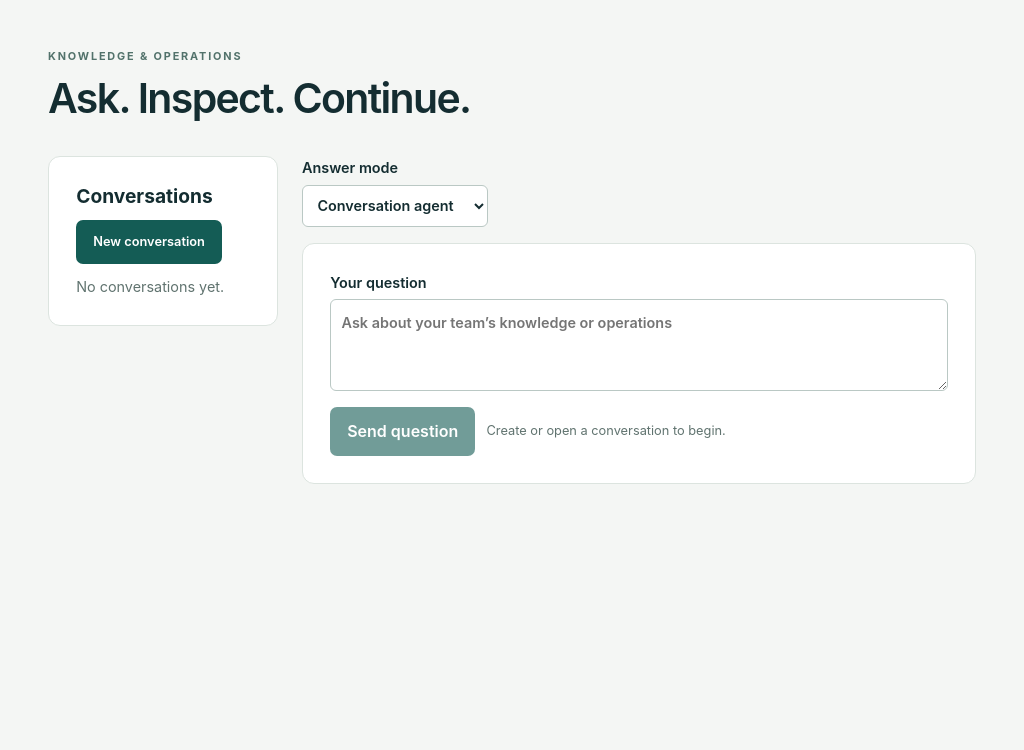
direct knowledge answer exposes citation preview as escaped text
The width and height of the screenshot is (1024, 750).
Step 1. Select "Knowledge question" in the dropdown labelled "Answer mode" → (395, 206), box [302,185,488,227]
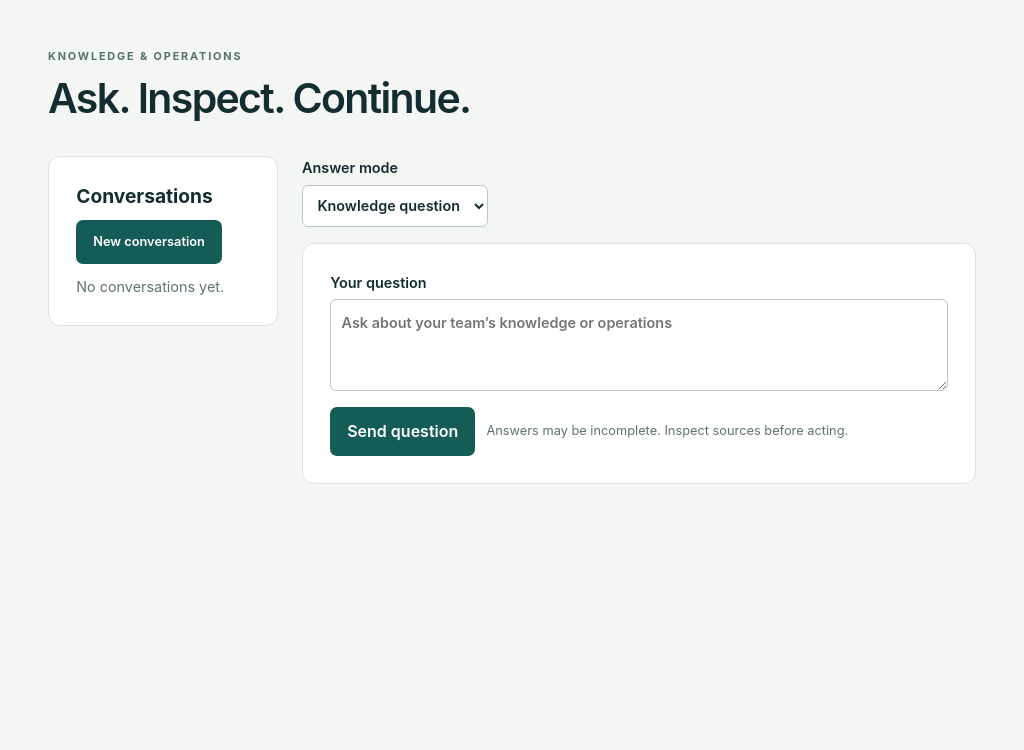
Step 2. Type "Synthetic question" into the text box labelled "Your question" → (639, 345), box [330,299,948,391]
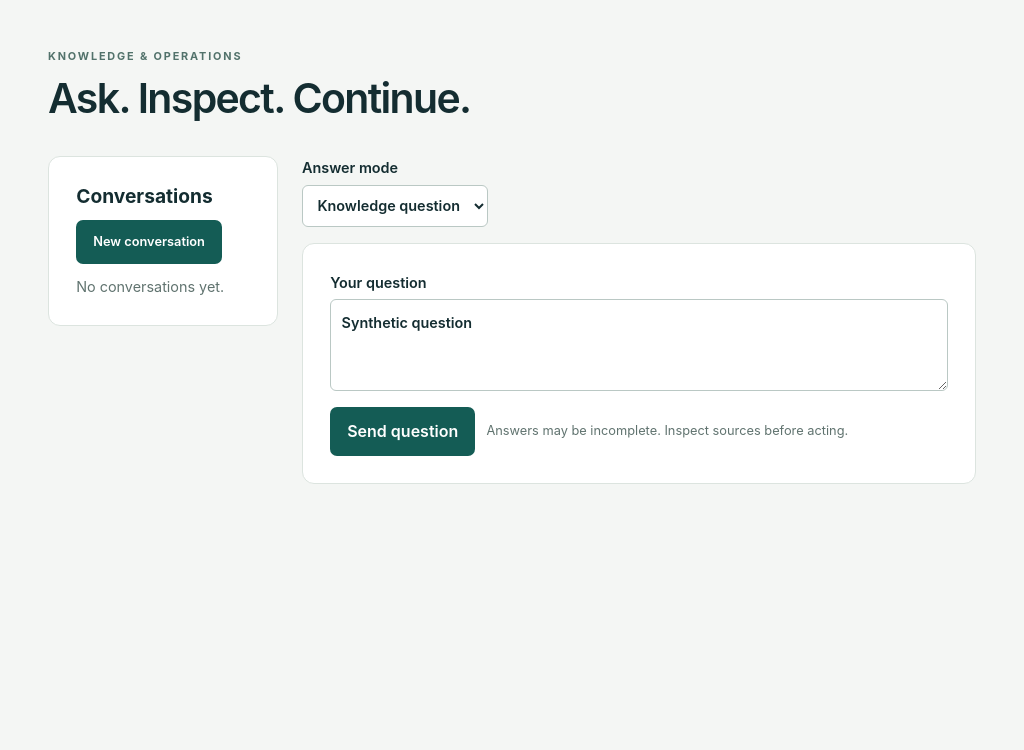
Step 3. Click the button "Send question" → (403, 431), box [330,407,475,456]
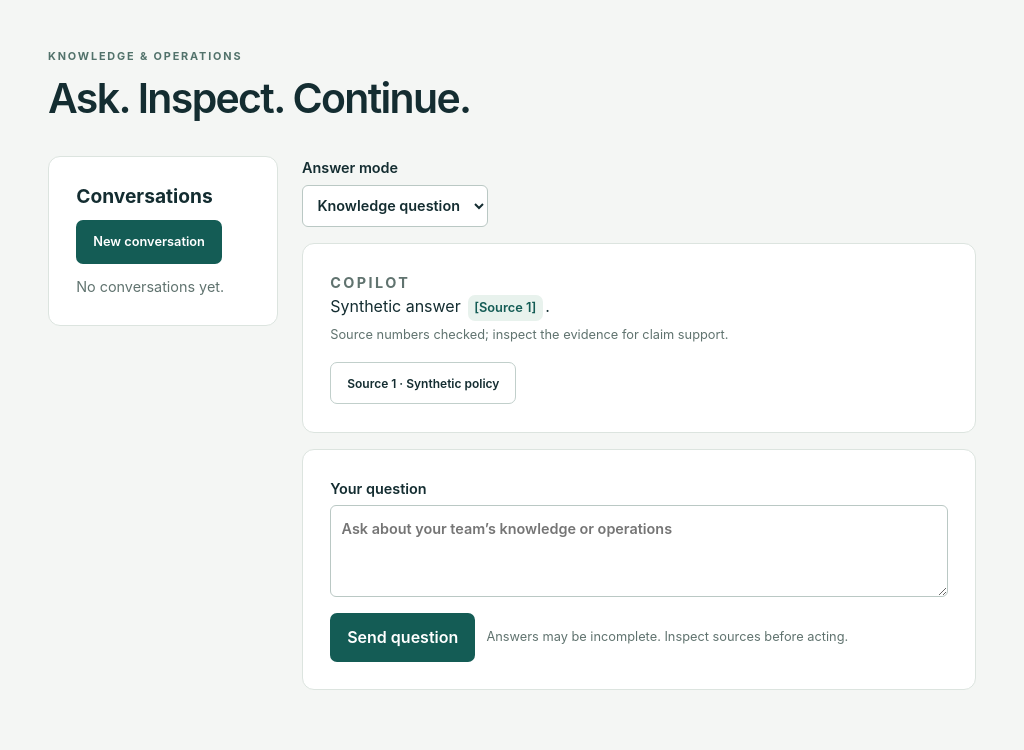
Check: the text "Source numbers checked; inspect the evidence for claim support." is shown, box [330,327,728,342]
Step 4. Click the button "Source 1 · Synthetic policy" → (423, 383), box [330,362,516,404]
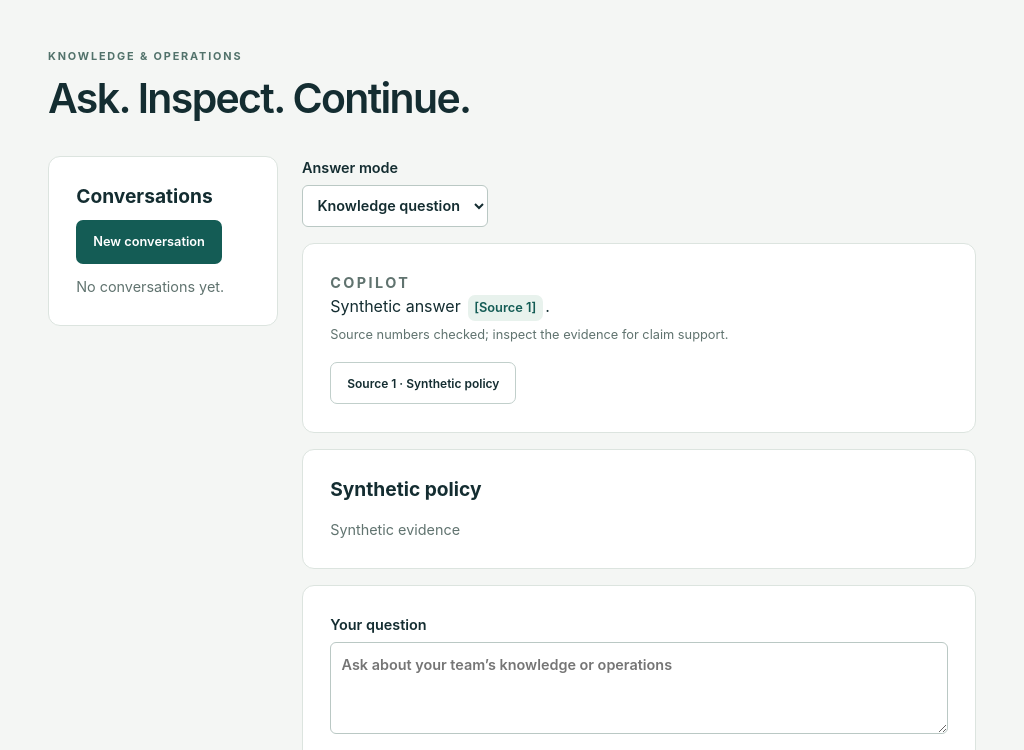
Check: the text "Synthetic evidence" is shown, box [330,521,460,538]
